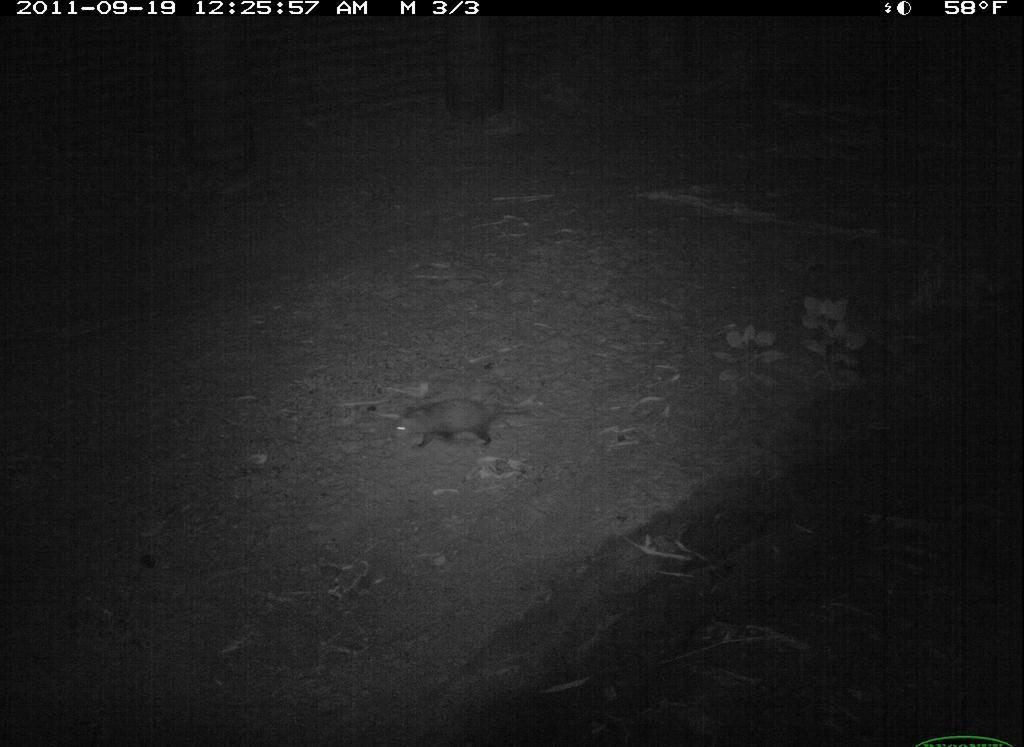opossum: (387, 396, 539, 455)
